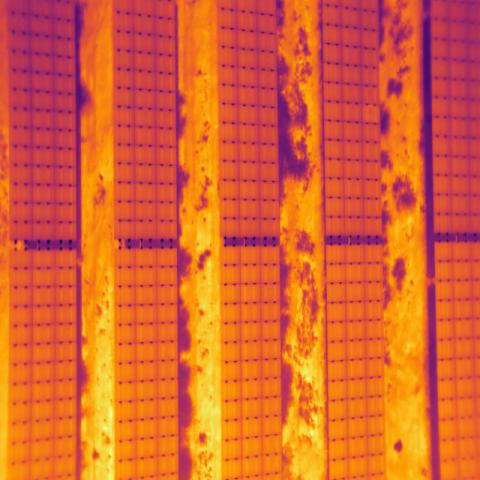fault: (362, 104, 380, 125)
